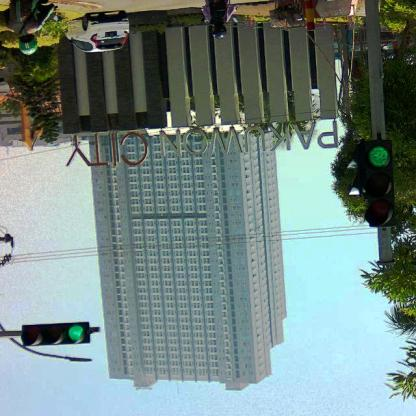Traffic Light -Green-: (360, 138, 396, 227), (19, 324, 90, 346)
